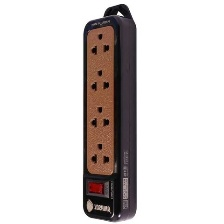three_eye_plug: (78, 13, 139, 224)
